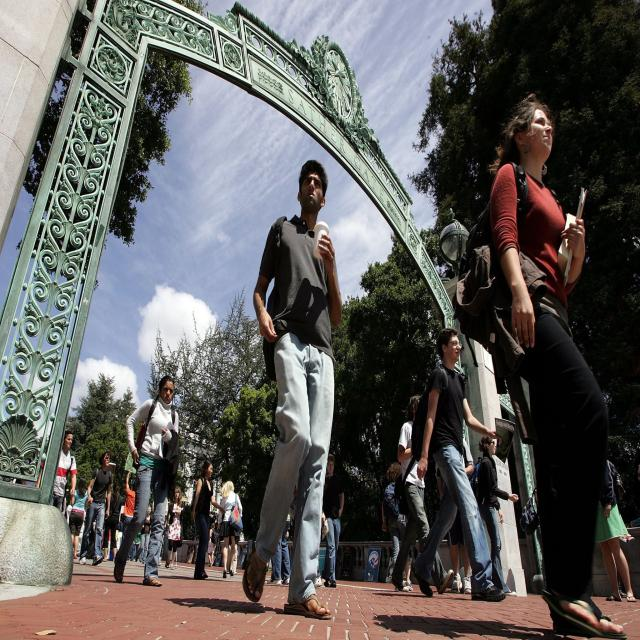body: (448, 90, 631, 640), (239, 153, 347, 621), (408, 325, 508, 606), (156, 593, 568, 637), (111, 374, 181, 589), (386, 392, 456, 598), (467, 434, 520, 597), (592, 458, 637, 604), (434, 438, 475, 596), (189, 458, 227, 582), (381, 462, 414, 592), (78, 448, 113, 567), (36, 430, 78, 510), (321, 453, 345, 588), (216, 480, 243, 579), (14, 436, 47, 510), (62, 490, 94, 559), (99, 480, 123, 564), (268, 506, 292, 586), (121, 468, 140, 564), (165, 485, 185, 570), (69, 477, 88, 560), (223, 499, 241, 576), (516, 488, 545, 533), (134, 505, 152, 565), (206, 522, 218, 568), (127, 528, 141, 562), (101, 522, 111, 561), (288, 491, 300, 520), (116, 518, 124, 552), (314, 562, 322, 590)
